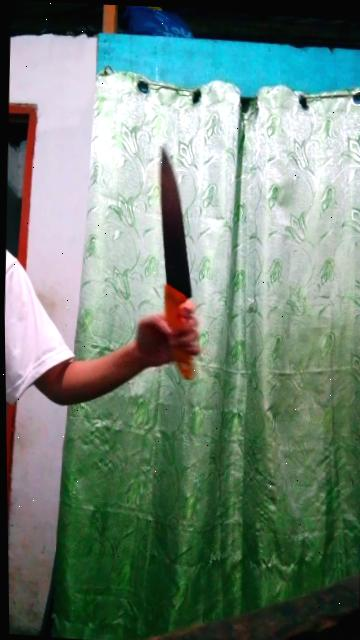long knife: (128, 143, 221, 378)
